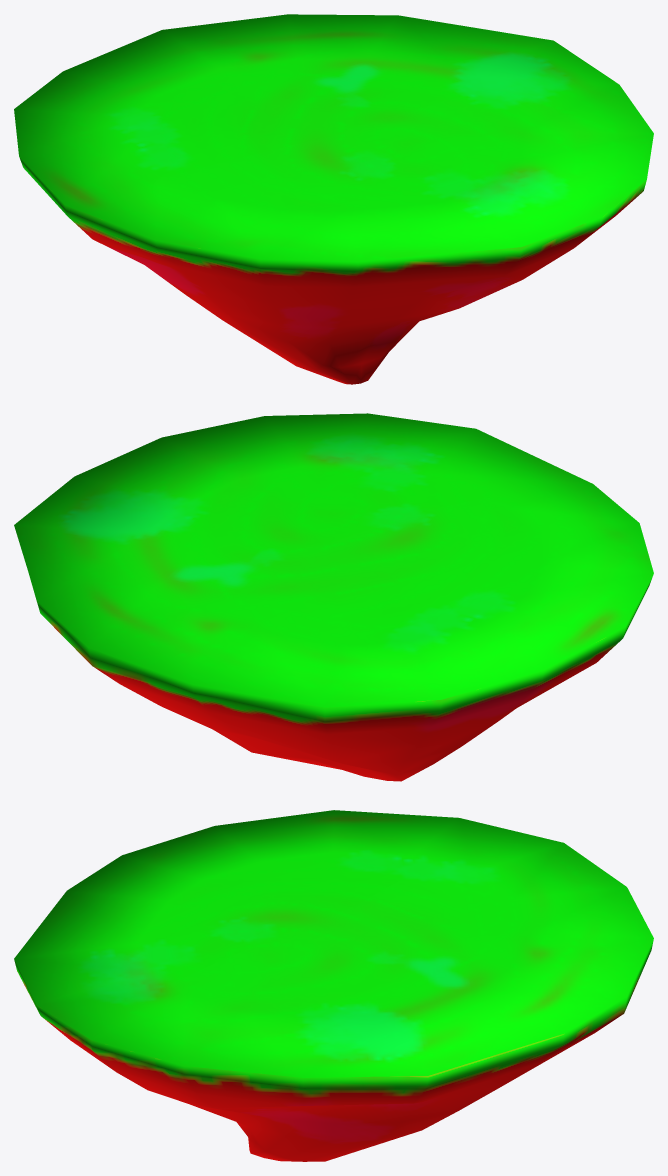
Rendered from PaintedIslandShape1.dae.
3 views of the same model, one above another, from view 1: azimuth 30°, elevation 25°; view 2: azimuth 150°, elevation 25°; view 3: azimuth 270°, elevation 25° (orthographic). The views are drawn at different scales.
Visible parts, largest first — view 1: PaintedIsland1; view 2: PaintedIsland1; view 3: PaintedIsland1.
Part boxes in pixels (left/top/right/bottom): PaintedIsland1: left=14, top=14, right=653, bottom=384; PaintedIsland1: left=14, top=413, right=653, bottom=781; PaintedIsland1: left=14, top=810, right=653, bottom=1161.
Size of the model in its own units: 78.36 by 31.65 by 79.14.
